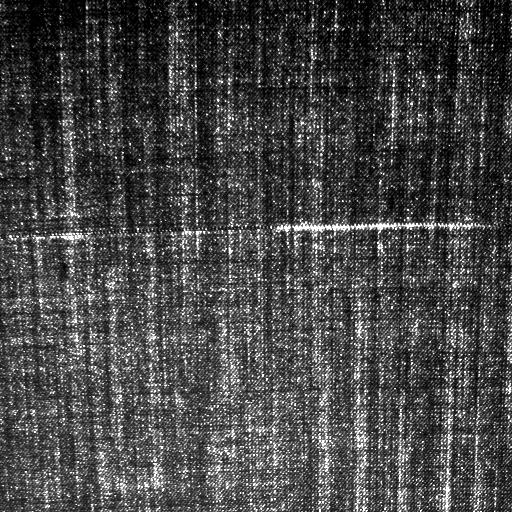fabric_broken_pick: (5, 218, 503, 248)
